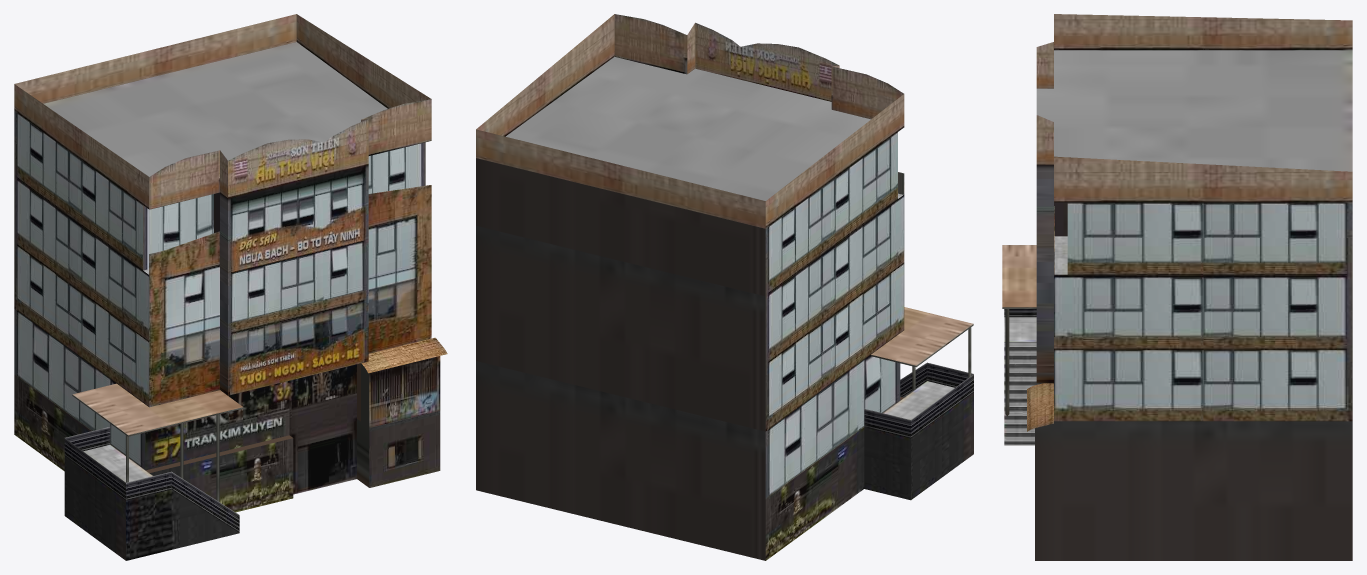
The picture shows the model from 3 angles, left to right: view 1: azimuth 30°, elevation 25°; view 2: azimuth 150°, elevation 25°; view 3: azimuth 270°, elevation 25°; orthographic projection. The views are drawn at different scales.
Visible parts, largest first — view 1: HN816_NhaHangSonThien; view 2: HN816_NhaHangSonThien; view 3: HN816_NhaHangSonThien.
Part boxes in pixels (box(x1,y1,x2,y2)): HN816_NhaHangSonThien: box(14, 14, 447, 560); HN816_NhaHangSonThien: box(476, 14, 973, 560); HN816_NhaHangSonThien: box(1002, 14, 1352, 560).
Bounding box in the file's own units: 18.45 × 19.6 × 15.24.
Materials: 1 (1 with a texture image).
